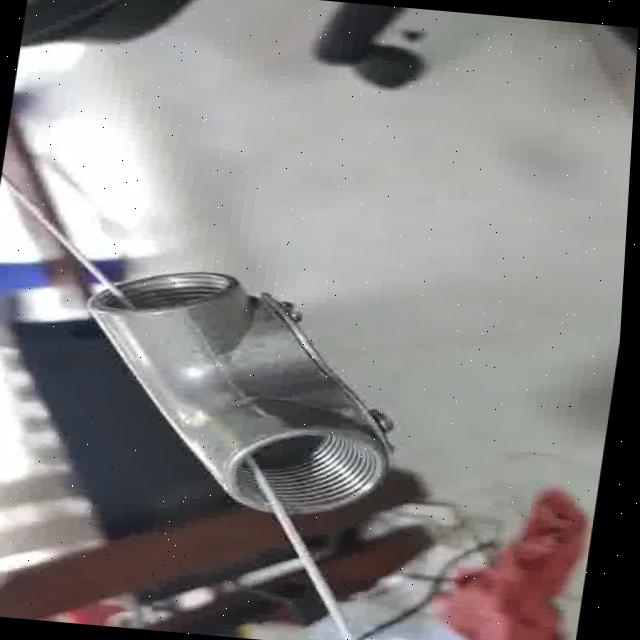Dry: (61, 259, 423, 519)
